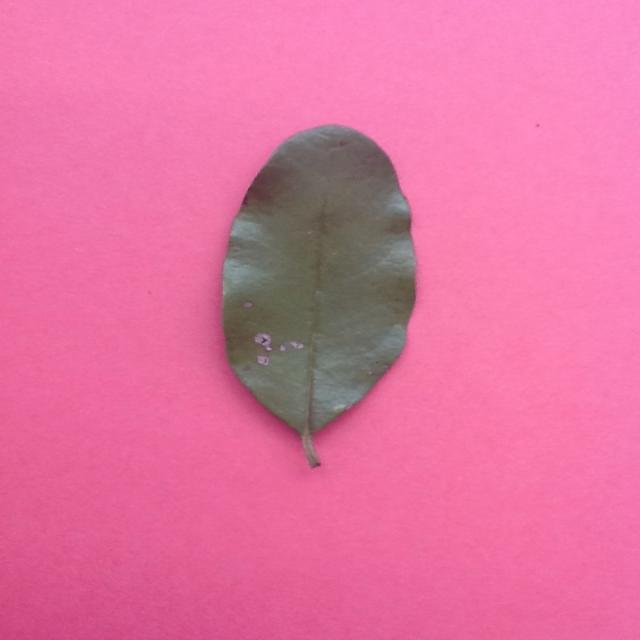foliage: (216, 118, 422, 467)
